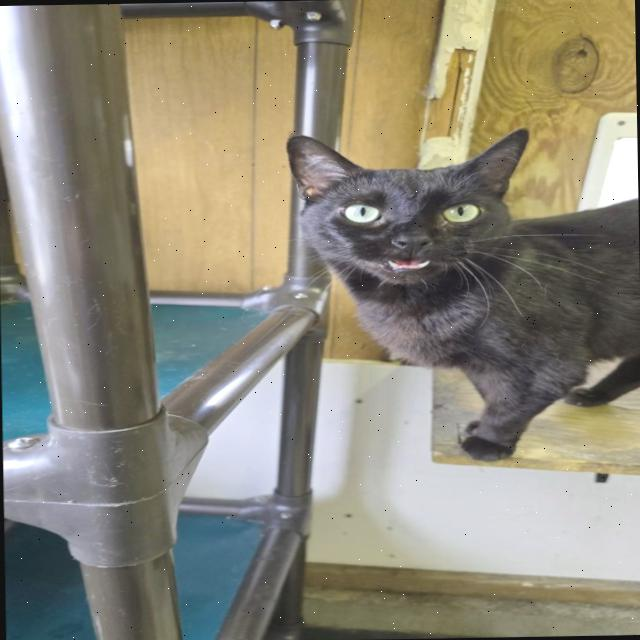bombay_cat: (262, 118, 554, 304)
